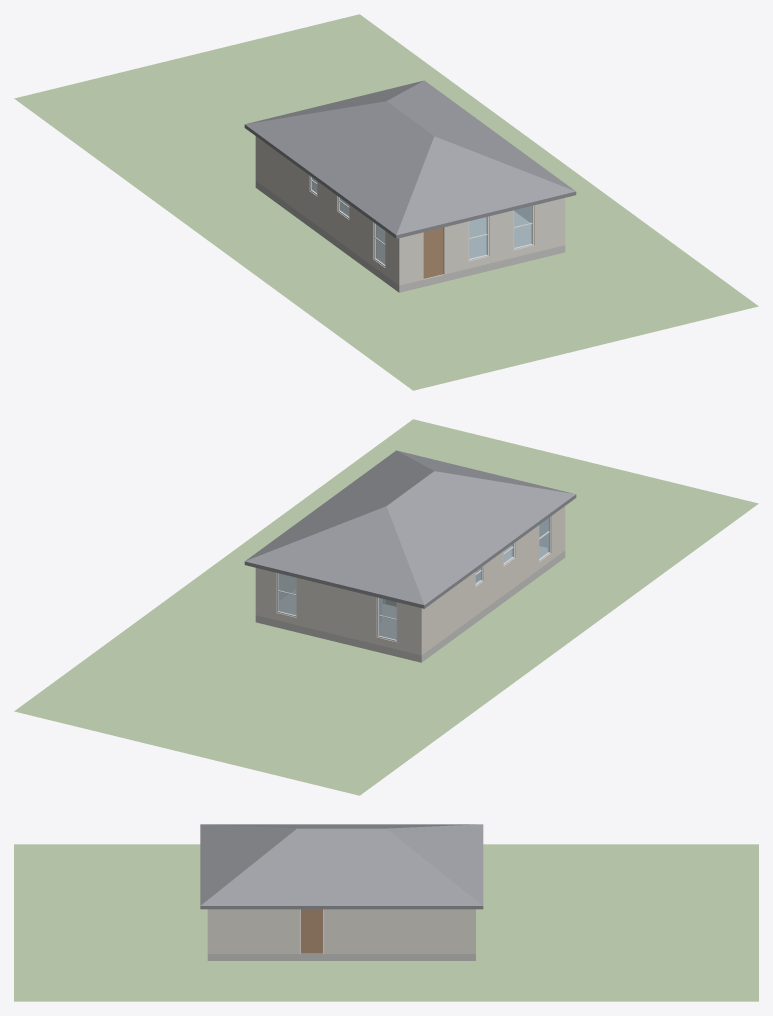
The picture shows the model from 3 angles, top to bottom: view 1: azimuth 30°, elevation 25°; view 2: azimuth 150°, elevation 25°; view 3: azimuth 270°, elevation 25°; orthographic projection. The views are drawn at different scales.
Visible parts, largest first — view 1: Lot, Hip roof, Wall ext-left, Wall ext-front, Floor First Floor, Door D01, Window N02, Window N01; view 2: Lot, Hip roof, Wall ext-back, Wall ext-left, Floor First Floor, Window N07, Window N06; view 3: Lot, Hip roof, Wall ext-right, Floor First Floor, Door D02.
Boxes of the visible parts, bbox=[...] form: Lot: bbox=[14, 14, 758, 390]; Hip roof: bbox=[244, 80, 576, 238]; Wall ext-left: bbox=[257, 138, 397, 283]; Wall ext-front: bbox=[397, 198, 565, 285]; Floor First Floor: bbox=[255, 181, 565, 292]; Door D01: bbox=[423, 227, 443, 278]; Window N02: bbox=[514, 206, 531, 247]; Window N01: bbox=[469, 217, 486, 258]; Lot: bbox=[14, 419, 758, 795]; Hip roof: bbox=[244, 450, 576, 608]; Wall ext-back: bbox=[255, 568, 423, 655]; Wall ext-left: bbox=[423, 507, 563, 653]; Floor First Floor: bbox=[255, 546, 565, 662]; Window N07: bbox=[278, 573, 296, 615]; Window N06: bbox=[378, 598, 396, 639]; Lot: bbox=[14, 844, 758, 1001]; Hip roof: bbox=[200, 824, 483, 909]; Wall ext-right: bbox=[211, 909, 472, 953]; Floor First Floor: bbox=[207, 909, 475, 960]; Door D02: bbox=[301, 909, 322, 953].
Size of the model in its own units: 15.24 by 4.27 by 30.48.
